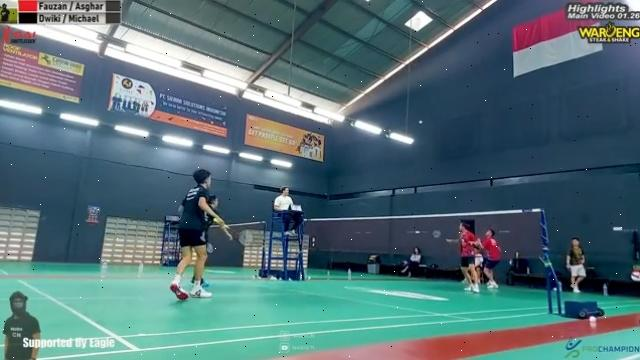Shuttlecock: (416, 116, 424, 126)
